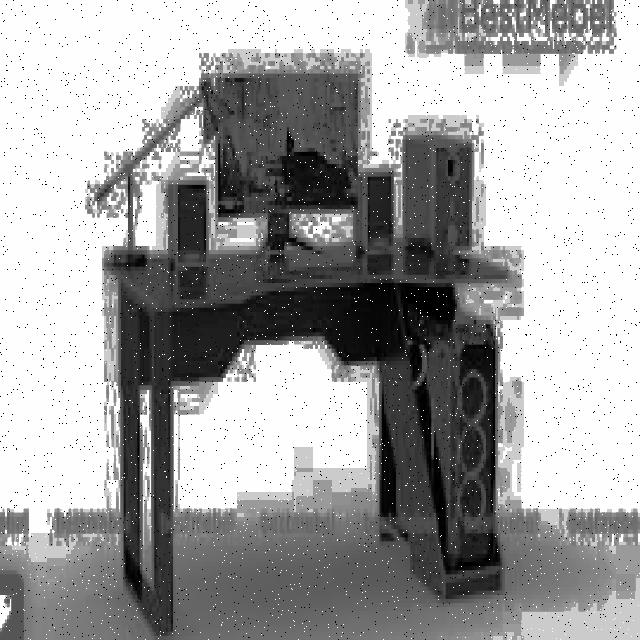table: (102, 238, 507, 636)
